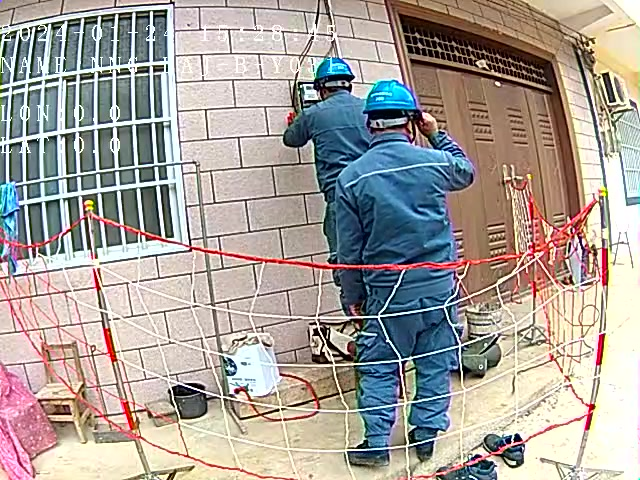downsuit: (355, 268, 460, 450)
halt: (363, 80, 422, 136), (312, 57, 357, 92)
hand: (415, 108, 440, 138)
person: (330, 77, 480, 478), (278, 55, 375, 338)
upsuit: (331, 136, 478, 266), (284, 92, 374, 161)
